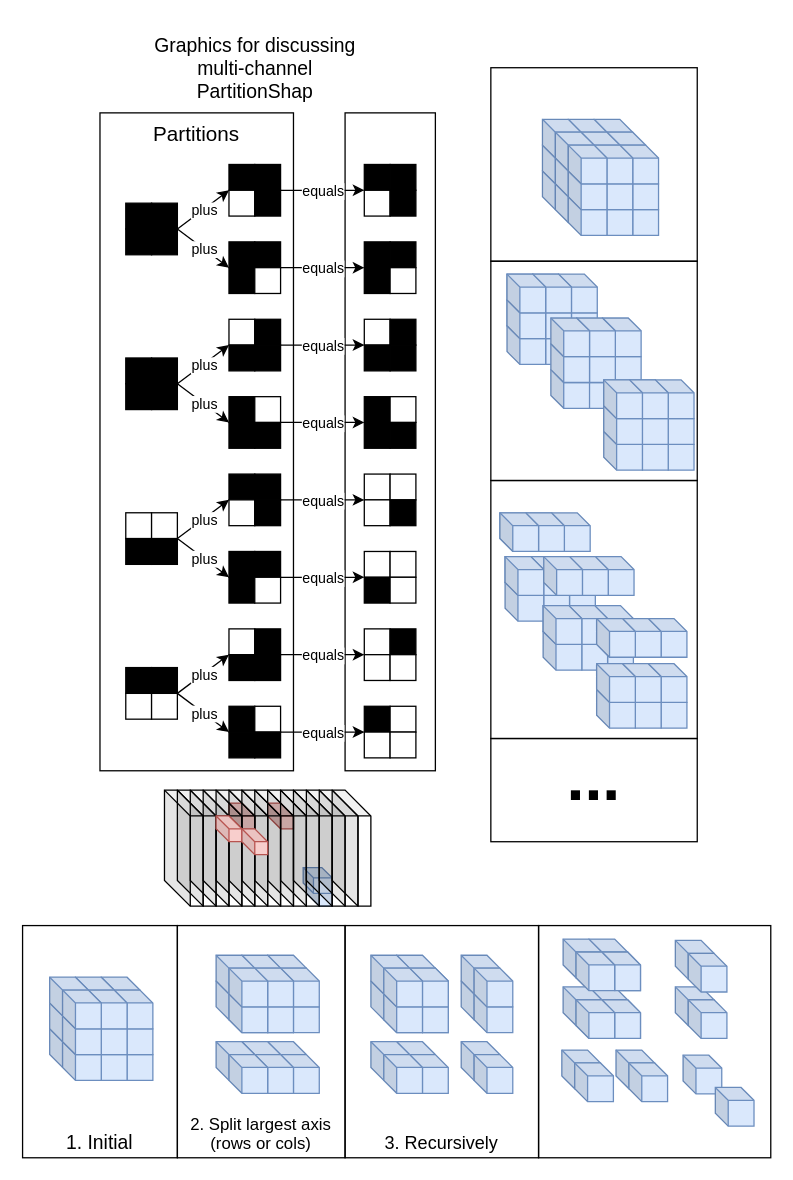
This 793x1180 diagram has some shape labels left out. The shapes that lost their labels are listed below. From the top down, each one's box as (x1, y1, x2, y2) in pixels, then its label:
(344, 112, 435, 771): Masks
(537, 924, 771, 1158): 4. Reached a base case
